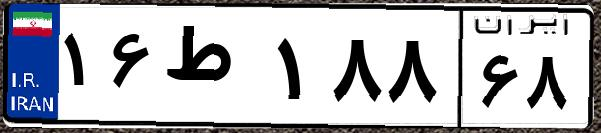1: (270, 28, 330, 110), (57, 26, 110, 100)
6: (475, 38, 525, 113), (110, 28, 158, 98)
8: (385, 28, 445, 110), (330, 28, 385, 110), (525, 38, 570, 115)
ط: (158, 20, 270, 120)
